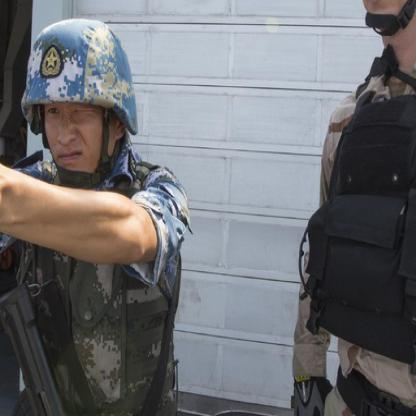gun: (0, 285, 151, 415)
